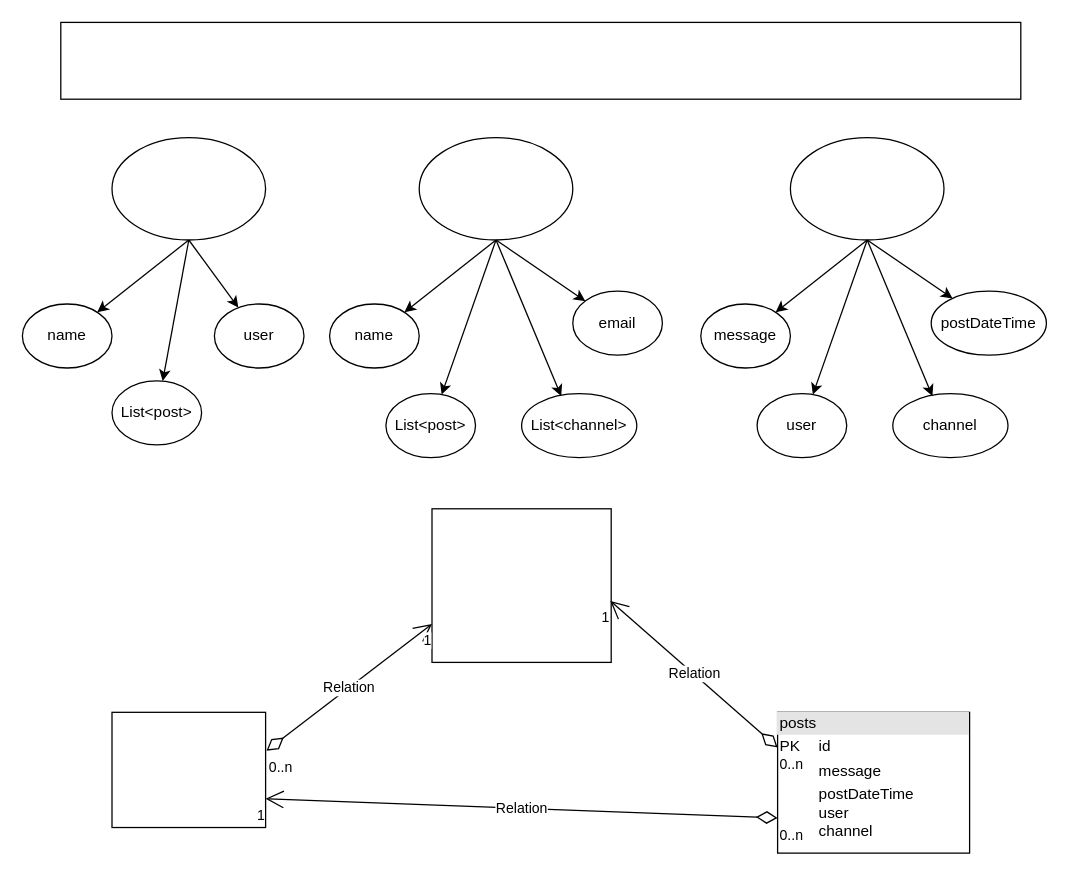
The diagram is 1069 pixels wide and 876 high, and some of its shapes have lost their labels. The shapes that lost their labels are listed below. From the top down, each one's centre as x and y in pixels, then its label:
At [540,60]: "Diagramme de classe projet Slack".
At [188,188]: "Channels".
At [495,188]: "Users".
At [866,188]: "Posts".
At [521,585]: "users PK id name email List<posts> List<channels>".
At [188,769]: "channels PK id name List<posts> user".
